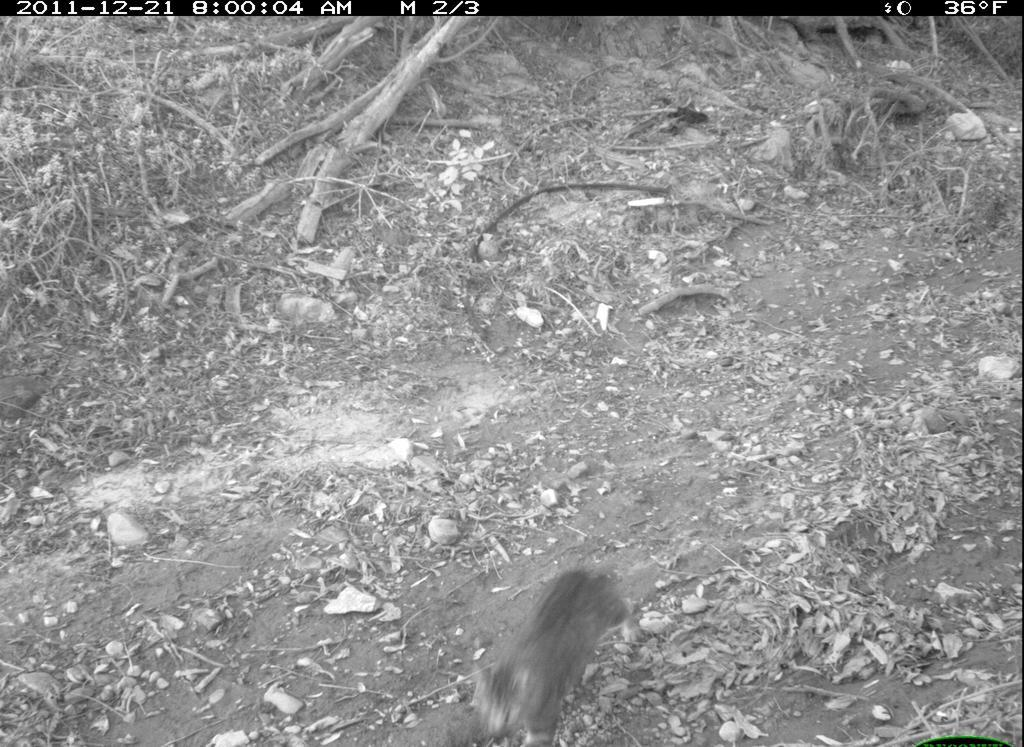cat: (470, 551, 644, 747)
